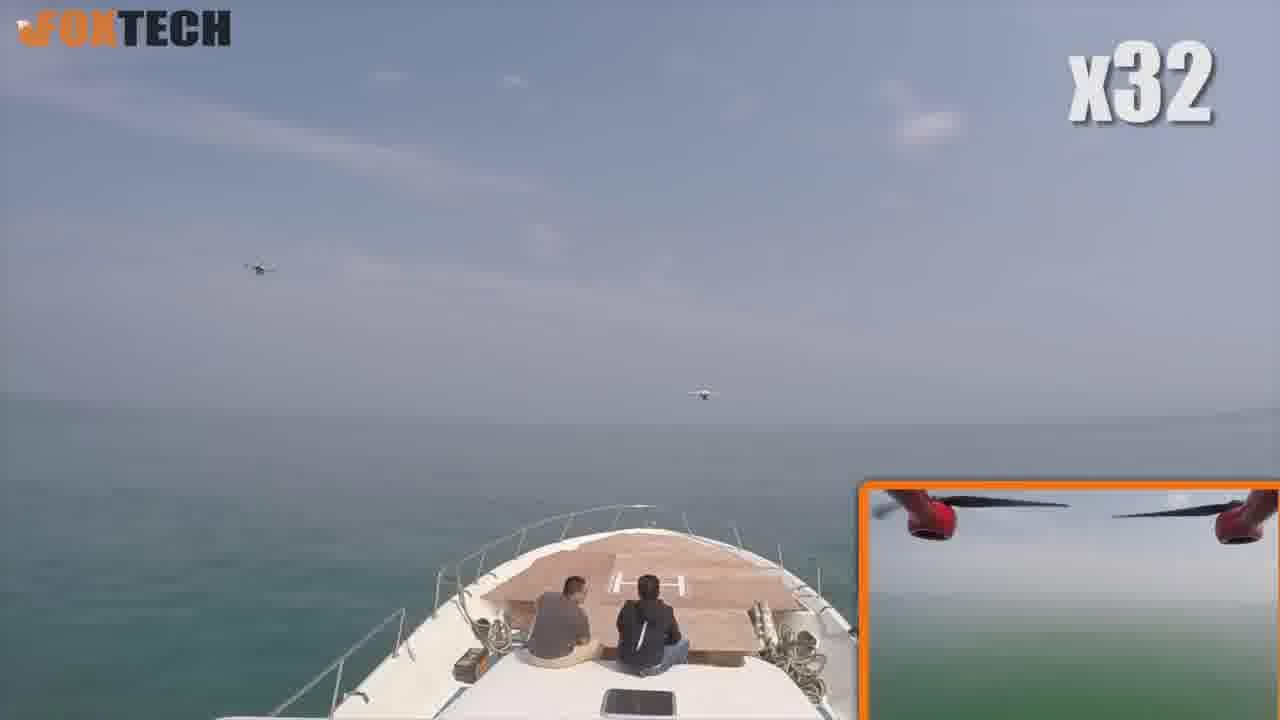drone: (691, 383, 725, 407)
